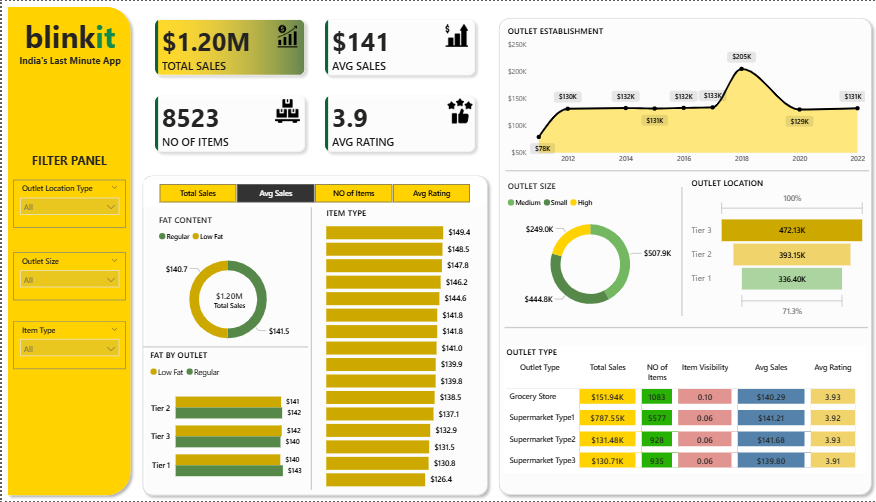

This screenshot's page, from the dashboard's own definition file:
{"tool":"powerbi","page":{"name":"blinkit_dashboard","canvas":[1400,800],"ordinal":0},"visuals":[{"type":"shape","box":[0,0,215,800],"z":0},{"type":"textbox","box":[13.3,18.3,190,76.7],"z":1000},{"type":"textbox","box":[13.3,80,190,30],"z":2000},{"type":"cardVisual","fields":{"Data":["BlinkIT Grocery Data.Total Sales","BlinkIT Grocery Data.Avg Sales","BlinkIT Grocery Data.NO of Items","BlinkIT Grocery Data.Avg Rating"]},"box":[215,0,570,270],"z":3000},{"type":"image","box":[436.7,38.3,41.7,36.7],"z":4000},{"type":"image","box":[711.7,156.7,41.7,40],"z":5000},{"type":"image","box":[436.7,156.7,41.7,40],"z":6000},{"type":"image","box":[701.7,36.7,51.7,38.3],"z":7000},{"type":"shape","box":[215,270,570,530],"z":8000},{"type":"slicer","fields":{"Values":["Metrics.Metrics"]},"box":[226.7,285,546.7,43.3],"z":9000},{"type":"donutChart","title":"FAT CONTENT","fields":{"Y":["BlinkIT Grocery Data.Avg Sales"],"Category":["BlinkIT Grocery Data.Item Fat Content"]},"box":[246.7,340,231.7,230],"z":10000},{"type":"cardVisual","fields":{"Data":["BlinkIT Grocery Data.Total Sales"]},"box":[305,440,116.7,75],"z":11000},{"type":"clusteredBarChart","title":"FAT BY OUTLET","fields":{"Y":["BlinkIT Grocery Data.Avg Sales"],"Category":["BlinkIT Grocery Data.Outlet Location Type"],"Series":["BlinkIT Grocery Data.Item Fat Content"]},"box":[232.9,555.7,252.9,230],"z":12000},{"type":"shape","box":[226.7,535,263.3,35],"z":13000},{"type":"shape","box":[490,330,10,452],"z":14000},{"type":"barChart","title":"ITEM TYPE","fields":{"Y":["BlinkIT Grocery Data.Avg Sales"],"Category":["BlinkIT Grocery Data.Item Type"]},"box":[514,330,240,452],"z":15000},{"type":"shape","box":[785.7,18.6,614.3,781.4],"z":16000},{"type":"lineChart","title":"OUTLET ESTABLISHMENT","fields":{"Category":["BlinkIT Grocery Data.Outlet Establishment Year"],"Y":["BlinkIT Grocery Data.Total Sales"]},"box":[804,38,582,232],"z":17000},{"type":"donutChart","title":"OUTLET SIZE","fields":{"Y":["BlinkIT Grocery Data.Total Sales"],"Category":["BlinkIT Grocery Data.Outlet Size"]},"box":[804.3,285.7,275,225],"z":18000},{"type":"shape","box":[1080,297.1,15.7,205.7],"z":19000},{"type":"shape","box":[805.7,258.6,581.4,27.1],"z":20000},{"type":"funnel","title":"OUTLET LOCATION","fields":{"Category":["BlinkIT Grocery Data.Outlet Location Type"],"Y":["Sum(BlinkIT Grocery Data.Sales)"]},"box":[1097.1,282.9,288.6,230],"z":21000},{"type":"shape","box":[804.3,515.7,581.4,12.9],"z":22000},{"type":"pivotTable","title":"OUTLET TYPE","fields":{"Rows":["BlinkIT Grocery Data.Outlet Type"],"Values":["BlinkIT Grocery Data.Total Sales","BlinkIT Grocery Data.NO of Items","Avg(BlinkIT Grocery Data.Item Visibility)","BlinkIT Grocery Data.Avg Sales","BlinkIT Grocery Data.Avg Rating"]},"box":[802.9,552.9,580,202.9],"z":23000},{"type":"slicer","fields":{"Values":["BlinkIT Grocery Data.Outlet Location Type"]},"box":[18.6,285.7,180,77.1],"z":24000},{"type":"slicer","fields":{"Values":["BlinkIT Grocery Data.Outlet Size"]},"box":[17.1,401.4,180,77.1],"z":25000},{"type":"slicer","fields":{"Values":["BlinkIT Grocery Data.Item Type"]},"box":[17.1,511.4,180,77.1],"z":26000},{"type":"textbox","box":[11.4,237.1,191.4,35.7],"z":27000}]}

Visuals, with their boxes in screenshot pixels (x1, y1, x2, y2), scaled from the page's 1400x800 canvas onto the 876x502 screenshot:
shape: crop(0, 0, 135, 501)
textbox: crop(8, 11, 127, 60)
textbox: crop(8, 50, 127, 69)
cardVisual - BlinkIT Grocery Data.Total Sales x BlinkIT Grocery Data.Avg Sales: crop(135, 0, 491, 169)
image: crop(273, 24, 299, 47)
image: crop(445, 98, 471, 123)
image: crop(273, 98, 299, 123)
image: crop(439, 23, 471, 47)
shape: crop(135, 169, 491, 501)
slicer - Metrics.Metrics: crop(142, 179, 484, 206)
"FAT CONTENT" donutChart: crop(154, 213, 299, 358)
cardVisual - BlinkIT Grocery Data.Total Sales: crop(191, 276, 264, 323)
"FAT BY OUTLET" clusteredBarChart: crop(146, 349, 304, 493)
shape: crop(142, 336, 307, 358)
shape: crop(307, 207, 313, 491)
"ITEM TYPE" barChart: crop(322, 207, 472, 491)
shape: crop(492, 12, 875, 501)
"OUTLET ESTABLISHMENT" lineChart: crop(503, 24, 867, 169)
"OUTLET SIZE" donutChart: crop(503, 179, 675, 320)
shape: crop(676, 186, 686, 316)
shape: crop(504, 162, 868, 179)
"OUTLET LOCATION" funnel: crop(686, 178, 867, 322)
shape: crop(503, 324, 867, 332)
"OUTLET TYPE" pivotTable: crop(502, 347, 865, 474)
slicer - BlinkIT Grocery Data.Outlet Location Type: crop(12, 179, 124, 228)
slicer - BlinkIT Grocery Data.Outlet Size: crop(11, 252, 123, 300)
slicer - BlinkIT Grocery Data.Item Type: crop(11, 321, 123, 369)
textbox: crop(7, 149, 127, 171)
